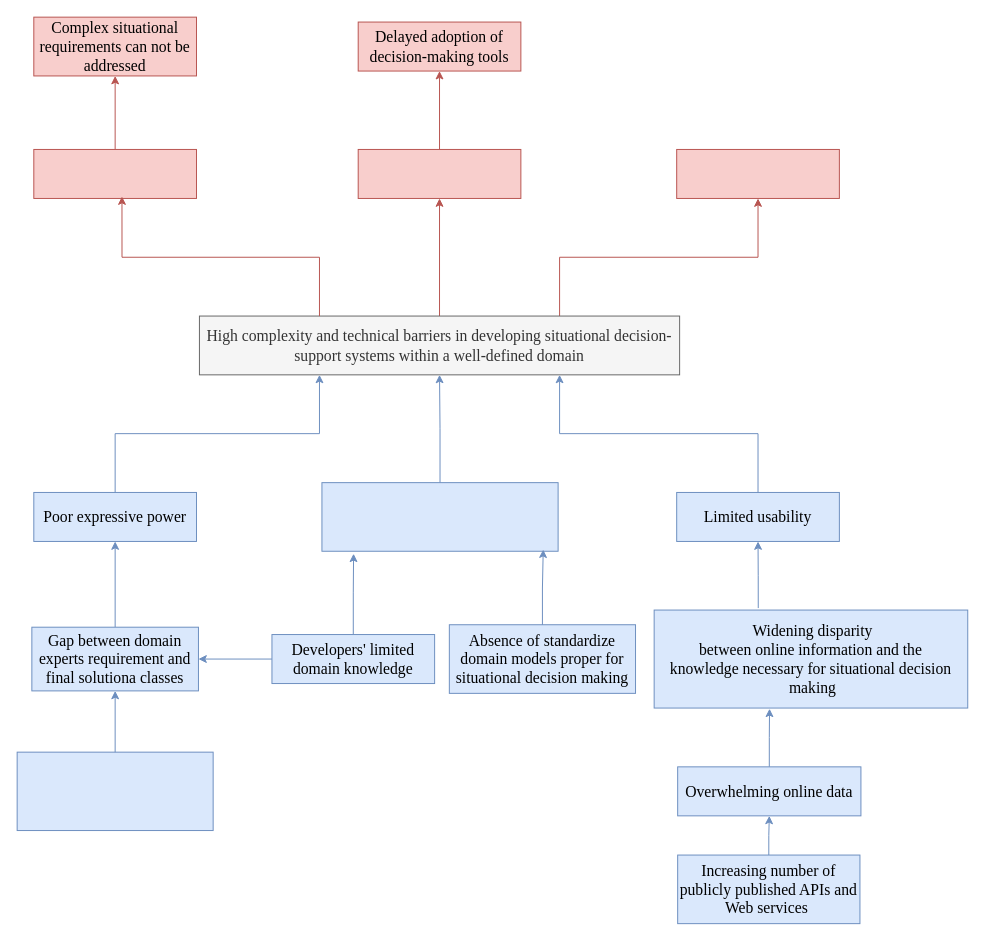
Some shapes in this 985 by 941 pixel diagram are drawn without their labels. The centre of each missing label's shape, as x and y in pixels:
Domain experts' limited technical skills in developing web-based solutions: point 114,791
Inaccurate and unfamiliar situations tools: point 439,173
Limited domain specificity of situational decision- making tools: point 439,516
Misinformed situational responses: point 757,173
Situational tools with trivial logic: point 114,173
